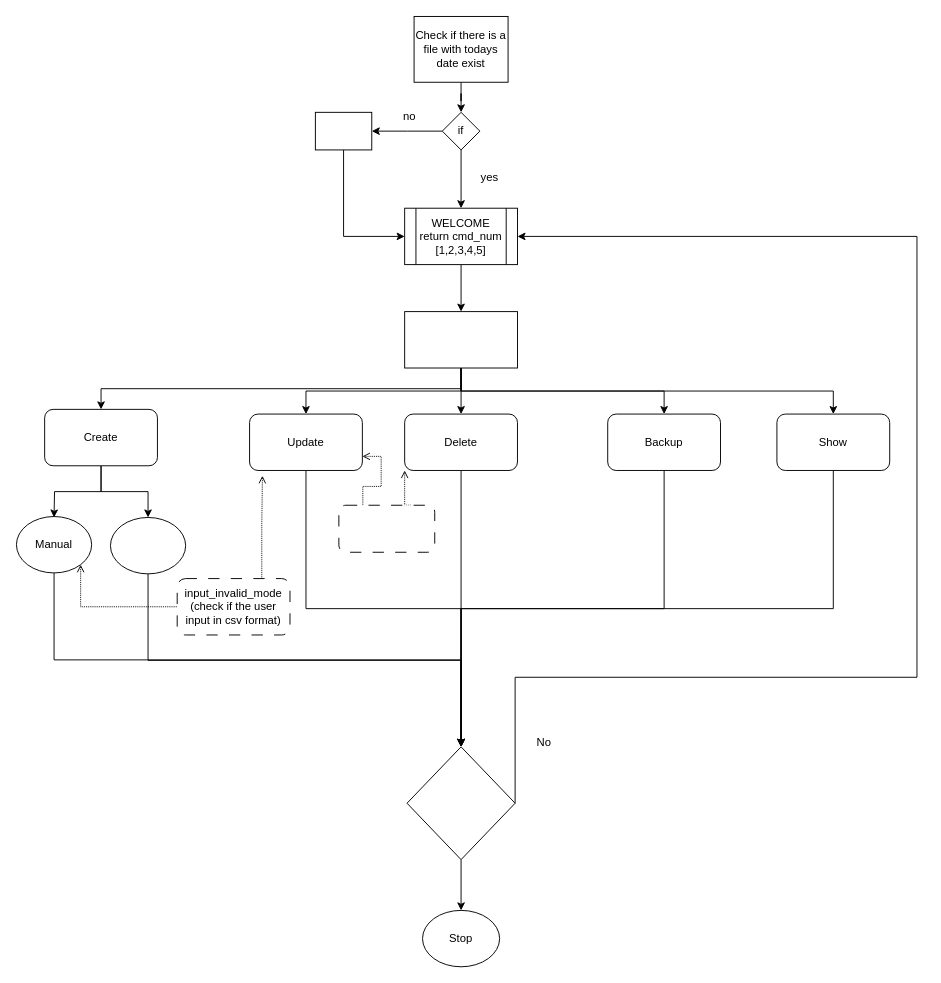
Some shapes in this 941 by 983 pixel diagram are drawn without their labels. Each missing label, with the centre of its shape:
"create file" belongs at [343,130].
"Do You Want Another service" belongs at [460,803].
"From File" belongs at [148,545].
"get cmd_run [1,2,3,4,5] Cases" belongs at [460,339].
"List_Of_Users" belongs at [386,528].
